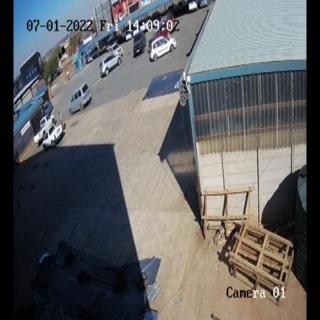car: (39, 119, 65, 149), (147, 36, 176, 61), (68, 84, 92, 113), (99, 51, 122, 77), (132, 32, 146, 56)
